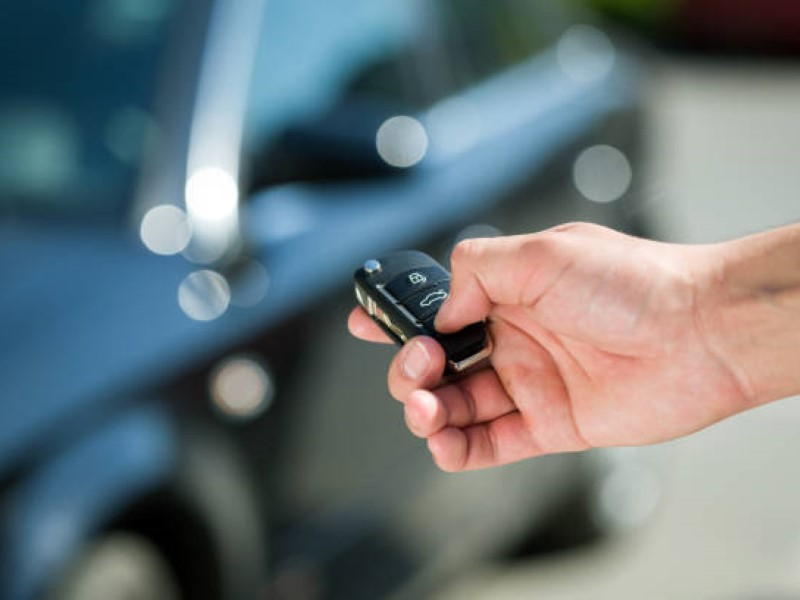carkey: (344, 243, 497, 374)
